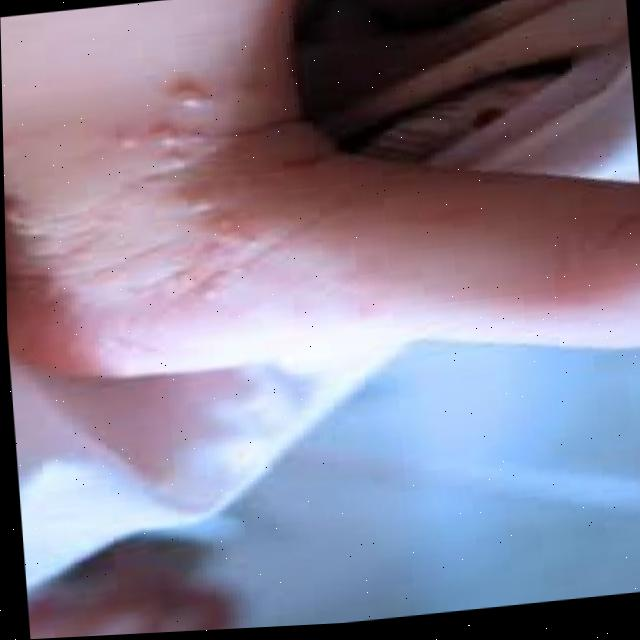Eczema: (113, 75, 300, 314)
